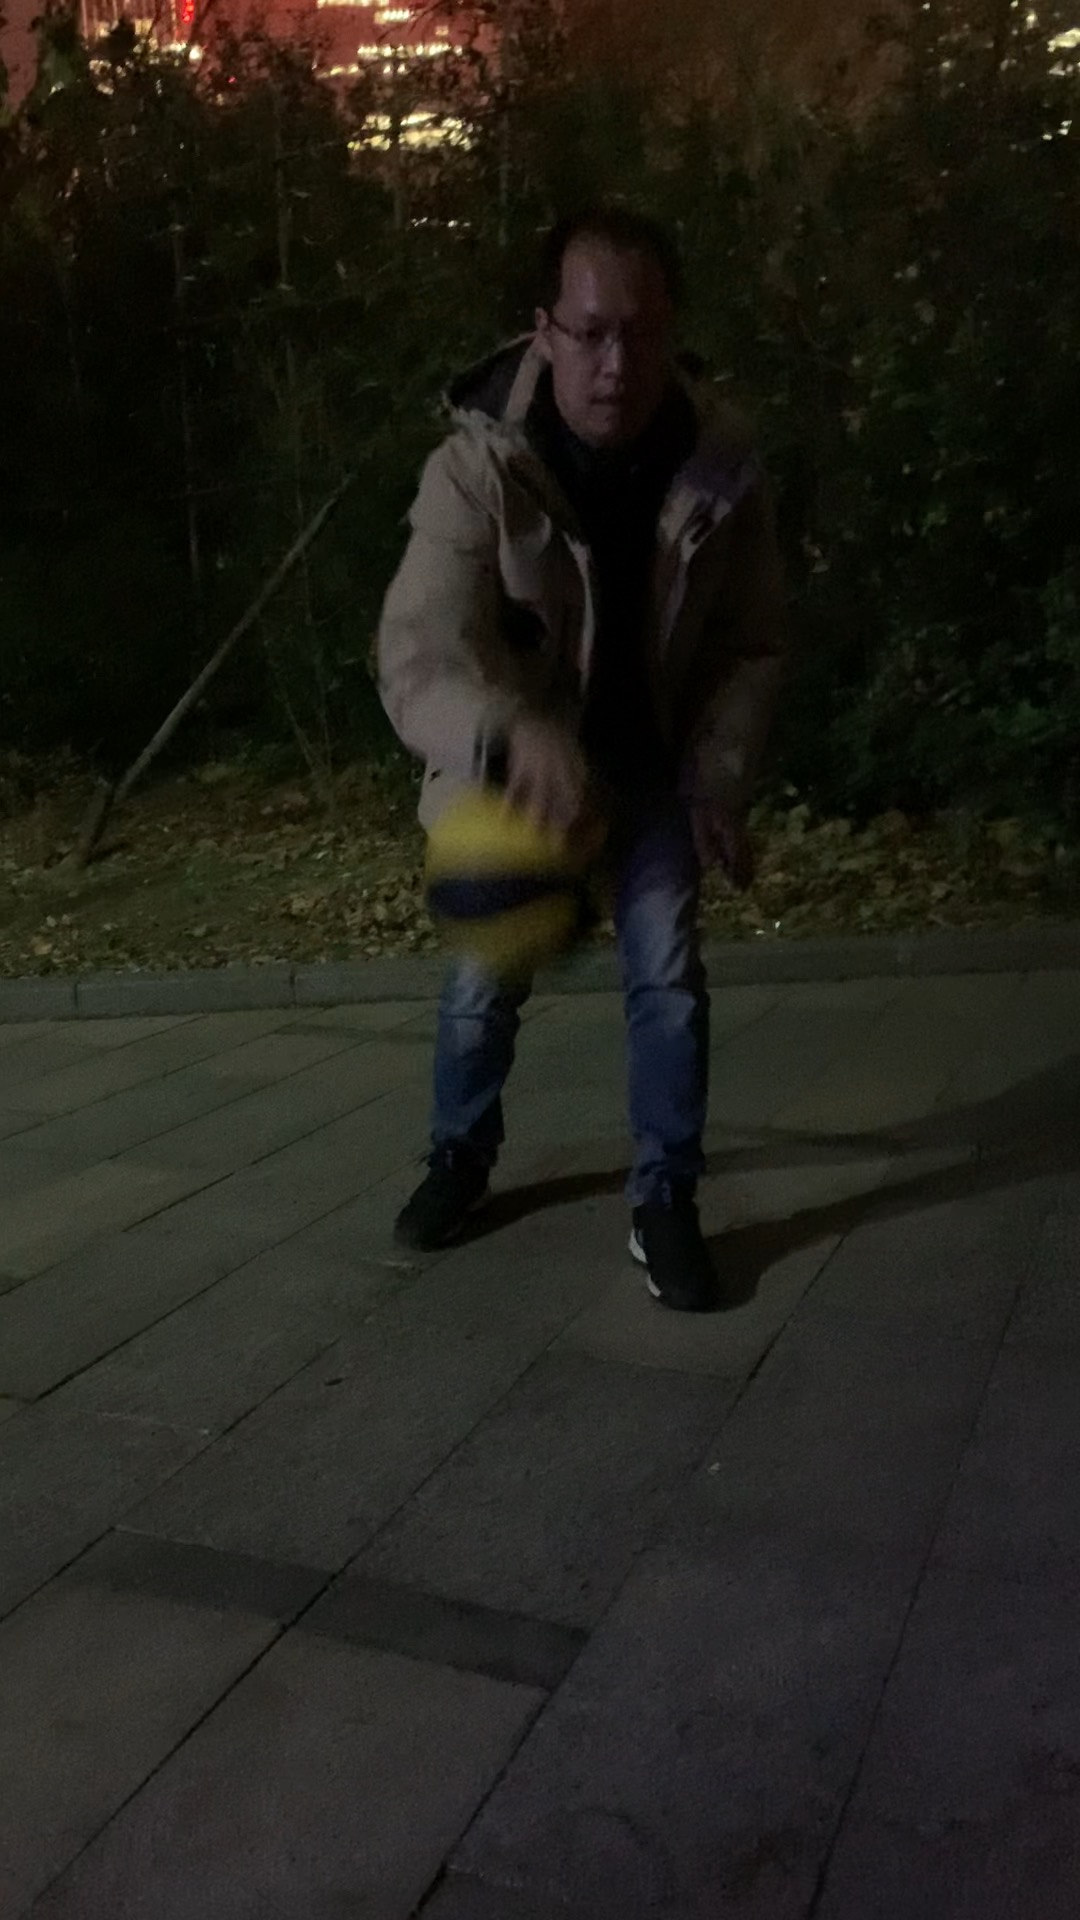ball: (425, 781, 618, 984)
